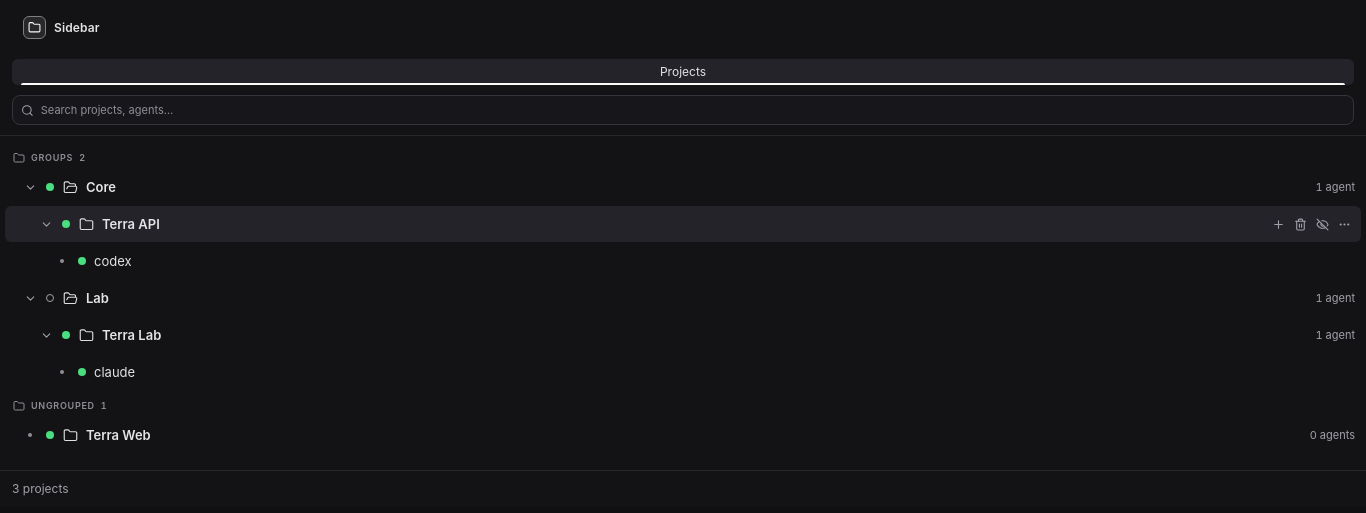
Test: Navigator rows › Given a project row, when pressing Space or using its disclosure, then it opens or folds
The width and height of the screenshot is (1366, 513).
Step 1. Type keys " "
Step 2. Click the button named "Collapse" next to "Terra API" → (46, 224), box [38,214,54,234]
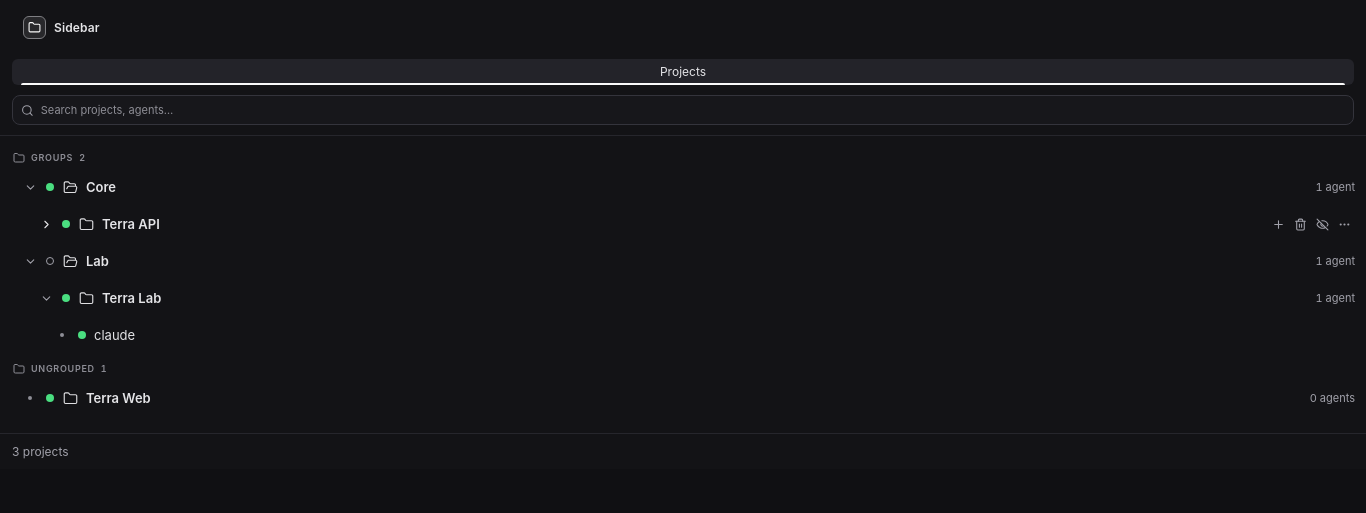
Now the list item with aria-label "Project Terra API" is collapsed, box [38,214,1355,234]
Step 3. Click the button named "Expand" → (46, 224), box [38,214,54,234]
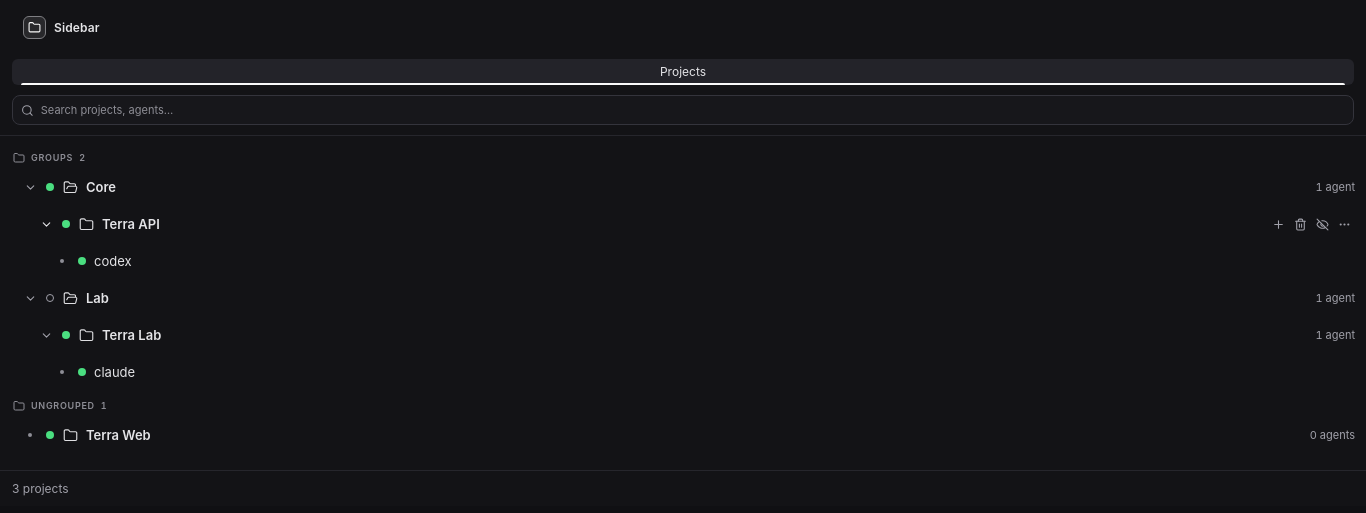
Now the list item with aria-label "Project Terra API" is expanded, box [38,214,1355,234]
